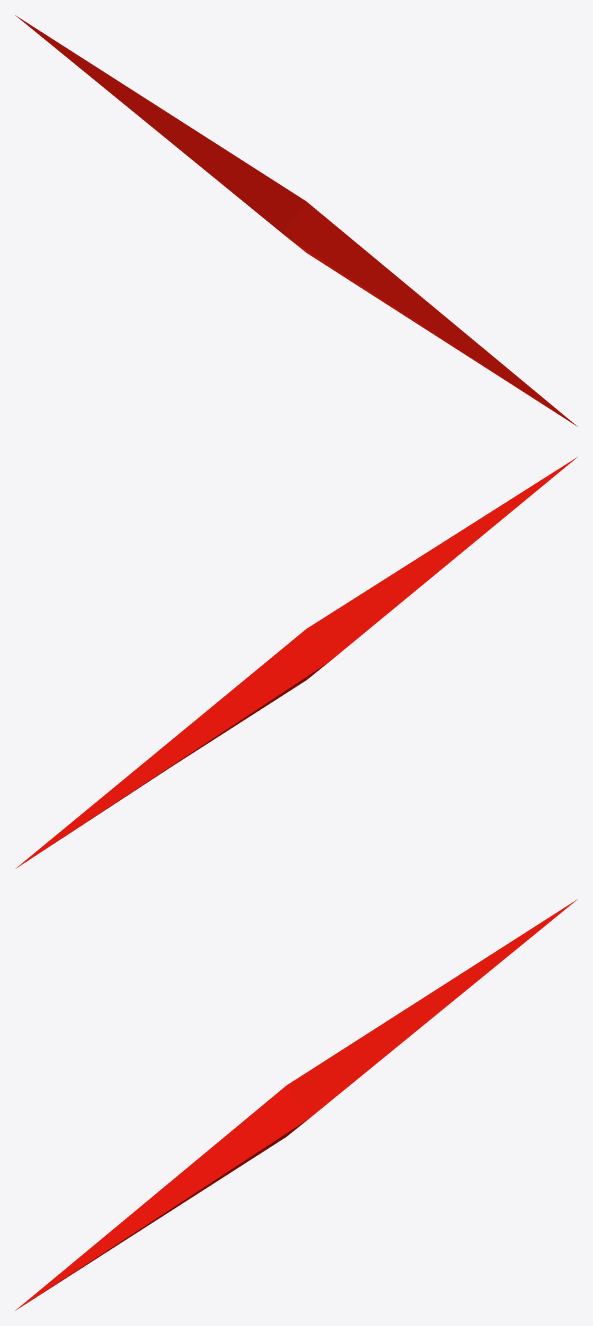
Rendered from KatanaHitEffect.fbx.
The picture shows the model from 3 angles, top to bottom: view 1: azimuth 30°, elevation 25°; view 2: azimuth 150°, elevation 25°; view 3: azimuth 330°, elevation 25°; orthographic projection.
Parts seen in each view (by area): view 1: 円錐; view 2: 円錐; view 3: 円錐.
Part boxes in pixels (x1=…): 円錐: x1=15, y1=15, x2=577, y2=426; 円錐: x1=15, y1=457, x2=577, y2=868; 円錐: x1=15, y1=899, x2=577, y2=1310.
Size of the model in its own units: 208 by 200 by 4146.
